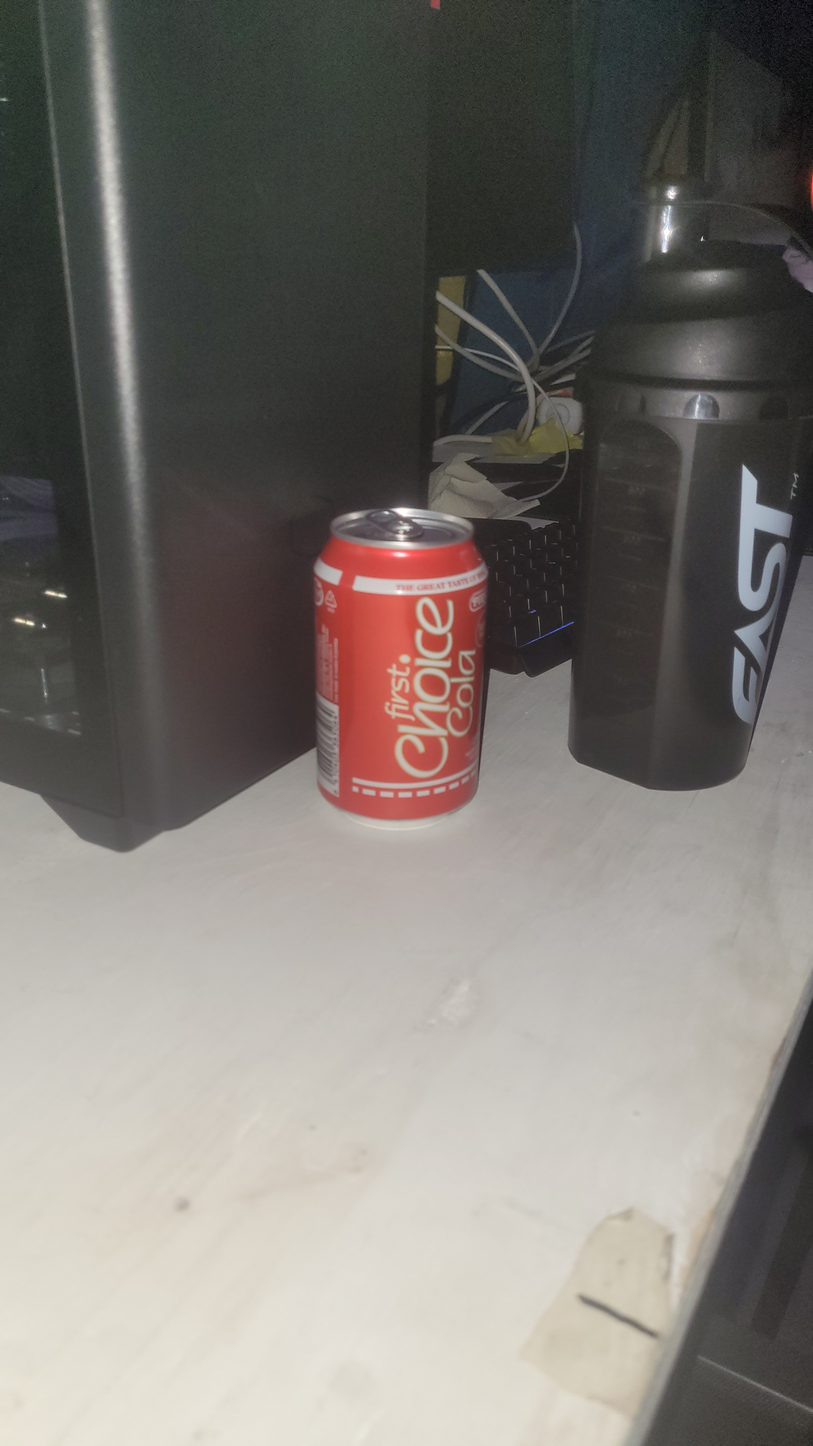Pantburk: (313, 506, 490, 832)
